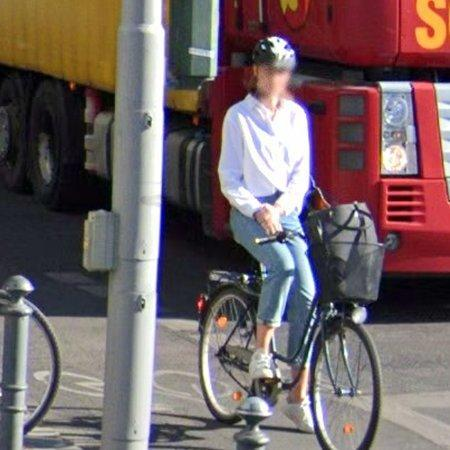bicycles: (304, 203, 385, 450), (200, 271, 289, 423)
